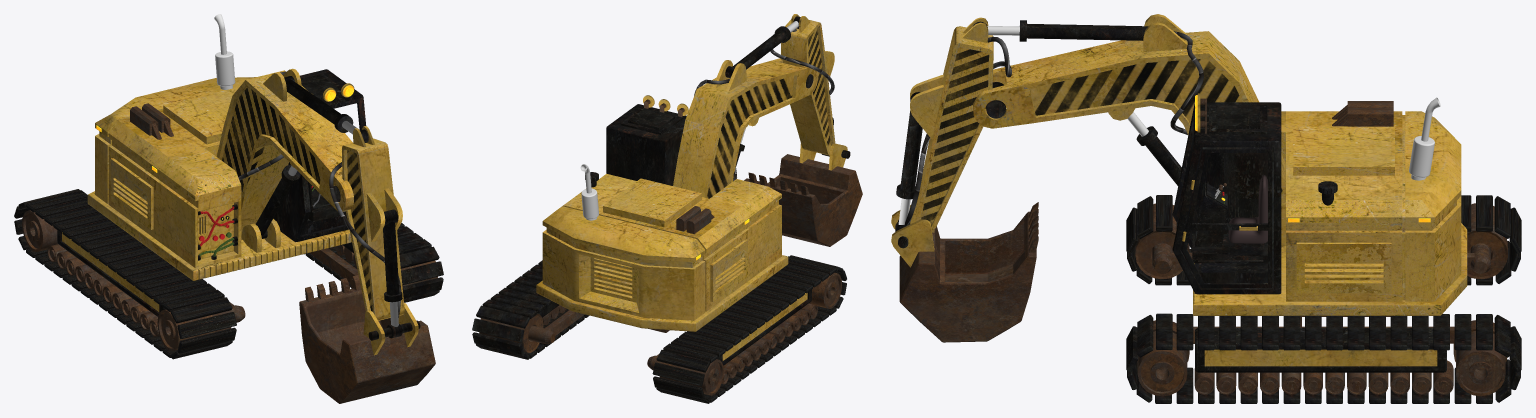
The model's file is infrastructure-base.glb.
3 views of the same model, side by side, from view 1: azimuth 30°, elevation 25°; view 2: azimuth 150°, elevation 25°; view 3: azimuth 270°, elevation 25° (orthographic). The views are drawn at different scales.
Parts seen in each view (by area): view 1: CABIN, ARM, TRACKS, BUCKET; view 2: CABIN, TRACKS, ARM, BUCKET; view 3: CABIN, TRACKS, ARM, BUCKET.
Part boxes in pixels (x1,y1,x2,y2): CABIN: (87, 14, 366, 280); ARM: (216, 68, 420, 340); TRACKS: (14, 189, 443, 359); BUCKET: (299, 275, 435, 403); CABIN: (536, 95, 788, 332); TRACKS: (472, 255, 846, 403); ARM: (673, 14, 850, 198); BUCKET: (744, 143, 862, 246); CABIN: (1172, 93, 1467, 316); TRACKS: (1126, 195, 1521, 403); ARM: (895, 14, 1285, 248); BUCKET: (891, 202, 1038, 342).
Size of what is drawn, in the model's own units: 3.95 by 3.69 by 6.98.
14 materials, 10 textured.
